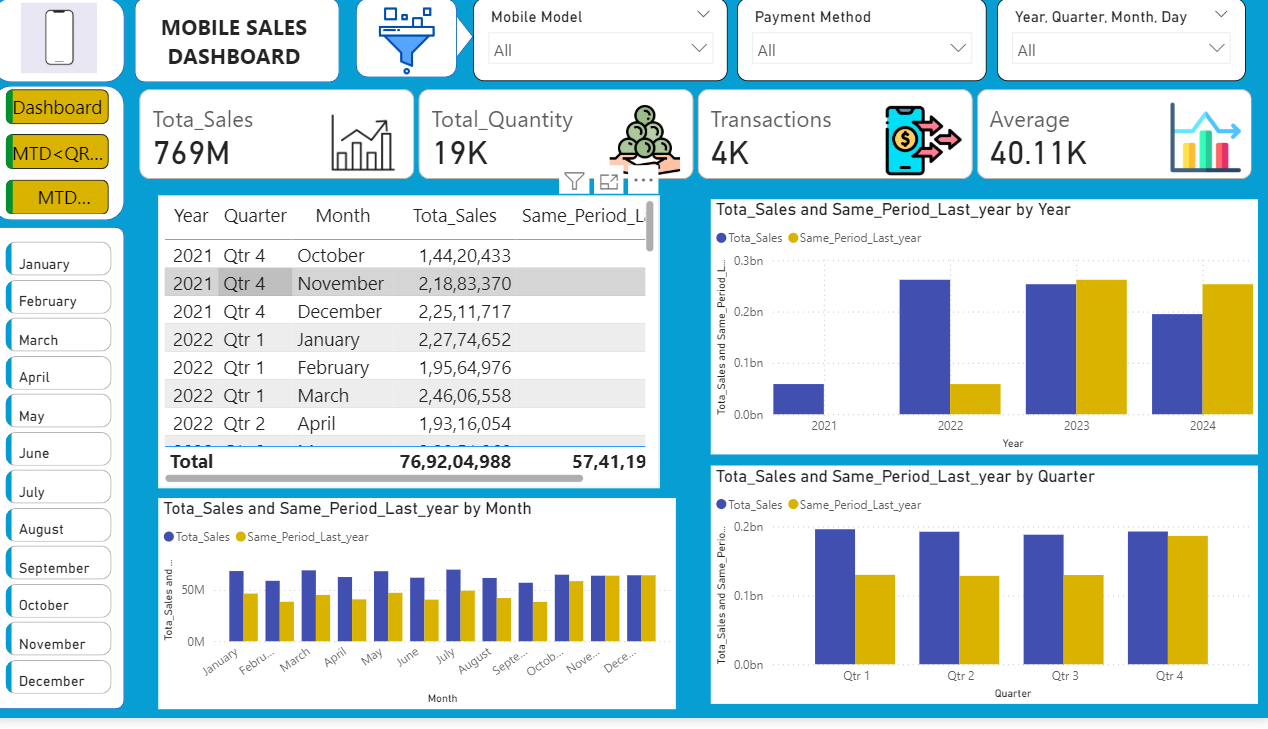

The page's visual inventory and layout, read from the dashboard file:
{"tool":"powerbi","page":{"name":"Same Period Last Year","canvas":[1280,720],"ordinal":3},"visuals":[{"type":"shape","box":[142.4,0,205.1,84.5],"z":0},{"type":"shape","box":[0,87.5,132.5,135],"z":1000},{"type":"cardVisual","fields":{"Data":["Sales_Data.Tota_Sales","Sales_Data.Total_Quantity","Sales_Data.Transactions","Sales_Data.Average"]},"box":[142.4,85.7,1123.2,100.1],"z":2000},{"type":"slicer","fields":{"Values":["Sales_Data.Mobile Model"]},"box":[481.4,0,254.6,83.2],"z":3000},{"type":"slicer","fields":{"Values":["Sales_Data.Payment Method"]},"box":[745.6,0,249.7,83.2],"z":4000},{"type":"slicer","fields":{"Values":["Custom_Calender.Date.Variation.Date Hierarchy.Year","Custom_Calender.Date.Variation.Date Hierarchy.Quarter","Custom_Calender.Date.Variation.Date Hierarchy.Month","Custom_Calender.Date.Variation.Date Hierarchy.Day"]},"box":[1005,0,248.5,83.2],"z":5000},{"type":"shape","box":[421,0,60.3,77.2],"z":6000},{"type":"shape","box":[364.3,0,101.3,79.6],"z":7000},{"type":"image","box":[347.5,3.6,133.9,78.4],"z":8000},{"type":"shape","box":[0,0,132.7,84.5],"z":9000},{"type":"textbox","box":[142.4,8.4,199.1,78.4],"z":10000},{"type":"shape","box":[0,228.8,132.5,482.5],"z":11000},{"type":"advancedSlicerVisual","fields":{"Values":["Custom_Calender.Date.Variation.Date Hierarchy.Month"]},"box":[8.8,238.8,116.2,467.5],"z":12000},{"type":"tableEx","fields":{"Values":["Custom_Calender.Date.Variation.Date Hierarchy.Year","Custom_Calender.Date.Variation.Date Hierarchy.Quarter","Custom_Calender.Date.Variation.Date Hierarchy.Month","Sales_Data.Tota_Sales","Sales_Data.Same_Period_Last_year"]},"box":[166.2,197.5,501.2,292.5],"z":13000},{"type":"clusteredColumnChart","fields":{"Category":["Custom_Calender.Date.Variation.Date Hierarchy.Year"],"Y":["Sales_Data.Tota_Sales","Sales_Data.Same_Period_Last_year"]},"box":[718.8,201.2,547.5,255],"z":13001},{"type":"clusteredColumnChart","fields":{"Category":["Custom_Calender.Date.Variation.Date Hierarchy.Year","Custom_Calender.Date.Variation.Date Hierarchy.Quarter"],"Y":["Sales_Data.Tota_Sales","Sales_Data.Same_Period_Last_year"]},"box":[718.8,467.5,547.5,238.8],"z":13002},{"type":"clusteredColumnChart","fields":{"Category":["Custom_Calender.Date.Variation.Date Hierarchy.Month"],"Y":["Sales_Data.Tota_Sales","Sales_Data.Same_Period_Last_year"]},"box":[166.2,500,517.5,211.2],"z":13003},{"type":"pageNavigator","box":[13.8,91.2,103.8,126.2],"z":13004},{"type":"image","box":[13.8,0,106.2,80],"z":13005}]}

Visuals, with their boxes in screenshot pixels (x1, y1, x2, y2), scaled from the page's 1280x720 canvas onto the 1268x729 screenshot:
shape: rect(141, 0, 344, 86)
shape: rect(0, 89, 131, 225)
cardVisual - Sales_Data.Tota_Sales x Sales_Data.Total_Quantity: rect(141, 87, 1254, 188)
slicer - Sales_Data.Mobile Model: rect(477, 0, 729, 84)
slicer - Sales_Data.Payment Method: rect(739, 0, 986, 84)
slicer - Custom_Calender.Date.Variation.Date Hierarchy.Year x Custom_Calender.Date.Variation.Date Hierarchy.Quarter: rect(996, 0, 1242, 84)
shape: rect(417, 0, 477, 78)
shape: rect(361, 0, 461, 81)
image: rect(344, 4, 477, 83)
shape: rect(0, 0, 131, 86)
textbox: rect(141, 9, 338, 88)
shape: rect(0, 232, 131, 720)
advancedSlicerVisual - Custom_Calender.Date.Variation.Date Hierarchy.Month: rect(9, 242, 124, 715)
tableEx - Custom_Calender.Date.Variation.Date Hierarchy.Year x Custom_Calender.Date.Variation.Date Hierarchy.Quarter: rect(165, 200, 661, 496)
clusteredColumnChart - Custom_Calender.Date.Variation.Date Hierarchy.Year x Sales_Data.Tota_Sales: rect(712, 204, 1254, 462)
clusteredColumnChart - Custom_Calender.Date.Variation.Date Hierarchy.Year x Custom_Calender.Date.Variation.Date Hierarchy.Quarter: rect(712, 473, 1254, 715)
clusteredColumnChart - Custom_Calender.Date.Variation.Date Hierarchy.Month x Sales_Data.Tota_Sales: rect(165, 506, 677, 720)
pageNavigator: rect(14, 92, 116, 220)
image: rect(14, 0, 119, 81)
